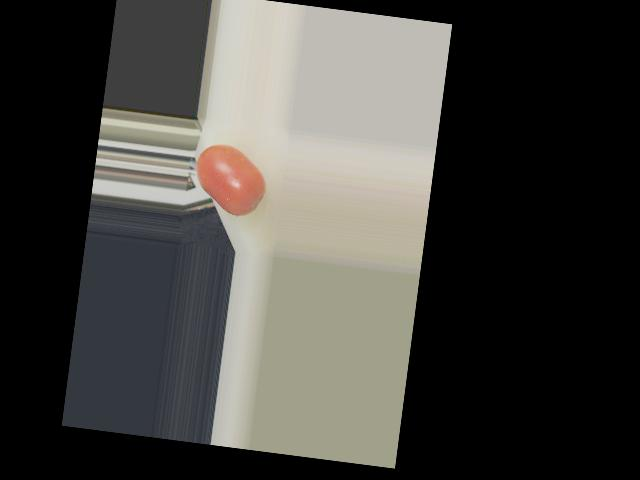tomato: (190, 141, 270, 218)
